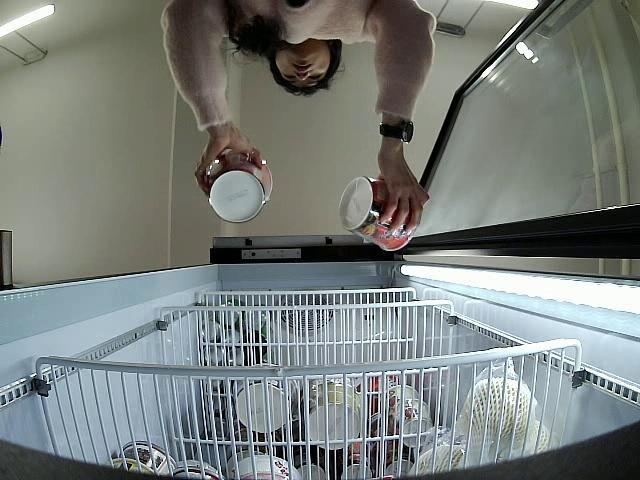01_ShinRamen_L: (336, 178, 414, 252), (205, 148, 271, 224)
